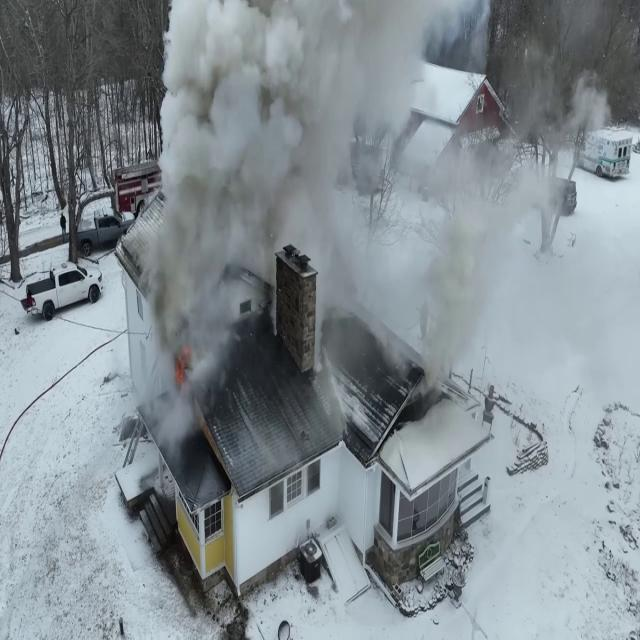Smoke: (134, 0, 552, 426)
